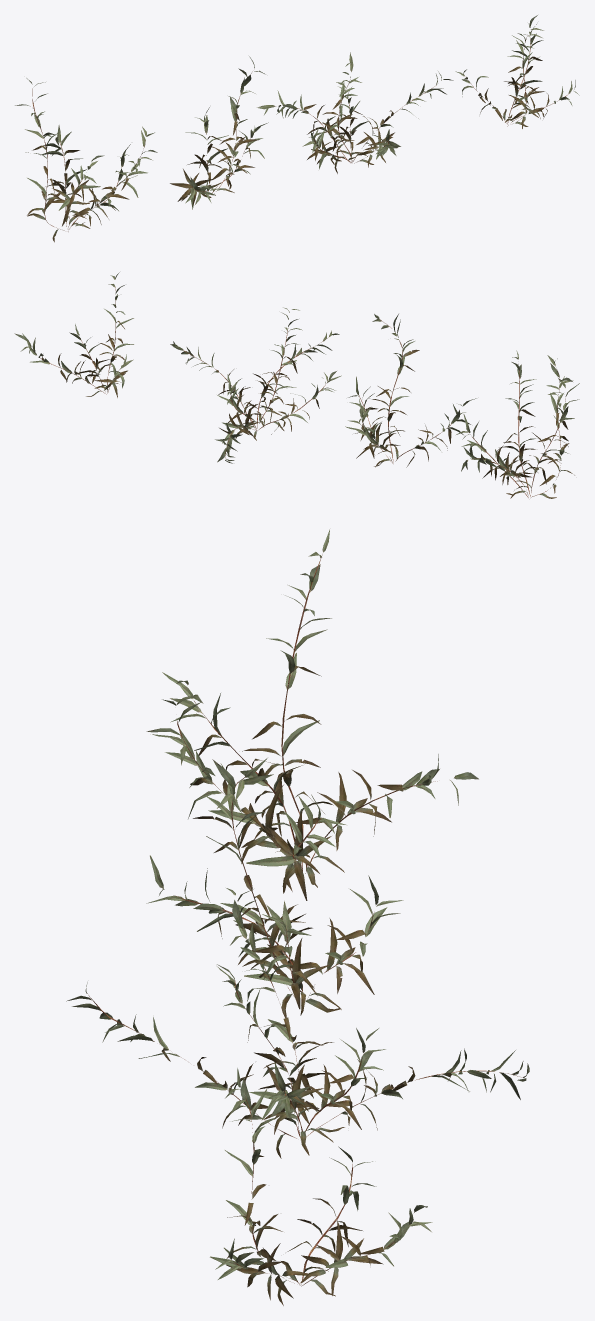
Rendered from shrub_b.glb.
The picture shows the model from 3 angles, top to bottom: view 1: azimuth 30°, elevation 25°; view 2: azimuth 150°, elevation 25°; view 3: azimuth 270°, elevation 25°; orthographic projection. The views are drawn at different scales.
Visible parts, largest first — view 1: shrub_02_c, shrub_02_a, shrub_02_b, shrub_02_d; view 2: shrub_02_a, shrub_02_c, shrub_02_b, shrub_02_d; view 3: shrub_02_a, shrub_02_c, shrub_02_b, shrub_02_d.
Boxes of the visible parts, left/top/right/bottom form: shrub_02_c: left=257, top=52, right=453, bottom=173; shrub_02_a: left=15, top=78, right=157, bottom=242; shrub_02_b: left=170, top=56, right=268, bottom=209; shrub_02_d: left=455, top=15, right=579, bottom=128; shrub_02_a: left=456, top=350, right=579, bottom=498; shrub_02_c: left=170, top=307, right=341, bottom=463; shrub_02_b: left=345, top=314, right=476, bottom=467; shrub_02_d: left=14, top=272, right=133, bottom=397; shrub_02_a: left=146, top=529, right=478, bottom=900; shrub_02_c: left=66, top=888, right=529, bottom=1158; shrub_02_b: left=146, top=758, right=403, bottom=1017; shrub_02_d: left=210, top=1068, right=432, bottom=1305.
Size of the model in its own units: 6.05 by 1.7 by 2.29.
Materials: 1 (1 with a texture image).
